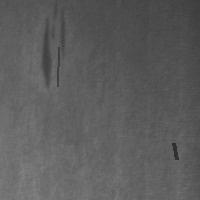inclusion: (35, 1, 72, 91), (55, 45, 60, 88), (171, 141, 178, 161)
